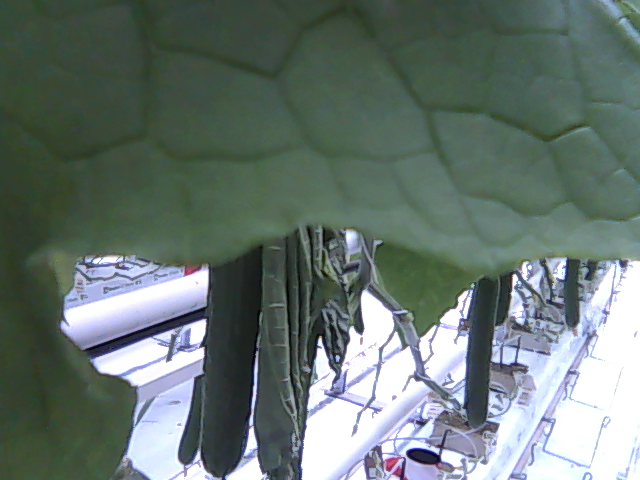concombre: (197, 239, 266, 480), (462, 274, 501, 430)
